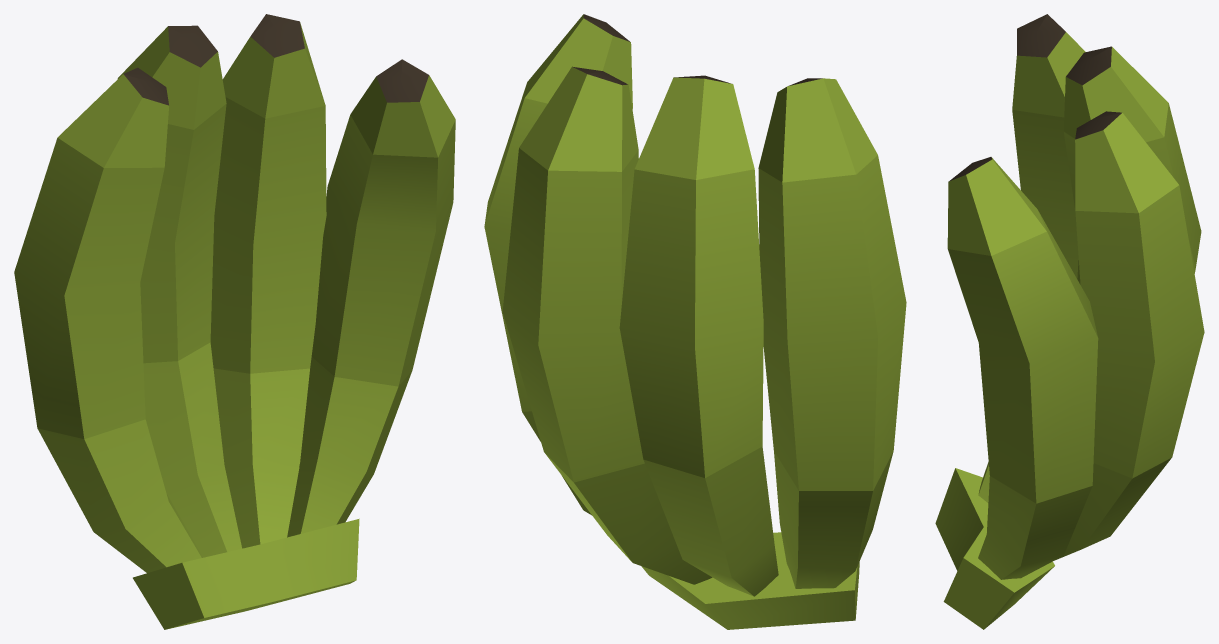
File: SM_Prop_Banana_01_M.glb
3 views of the same model, side by side, from view 1: azimuth 30°, elevation 25°; view 2: azimuth 150°, elevation 25°; view 3: azimuth 270°, elevation 25° (orthographic). The views are drawn at different scales.
Visible parts, largest first — view 1: SM_Prop_Banana_01_M; view 2: SM_Prop_Banana_01_M; view 3: SM_Prop_Banana_01_M.
Part boxes in pixels (x1,y1,x2,y2): SM_Prop_Banana_01_M: [14, 14, 455, 629]; SM_Prop_Banana_01_M: [484, 14, 906, 629]; SM_Prop_Banana_01_M: [935, 14, 1204, 629].
Bounding box in the file's own units: 0.2761 × 0.3656 × 0.1638.
Materials: 1 (1 with a texture image).
